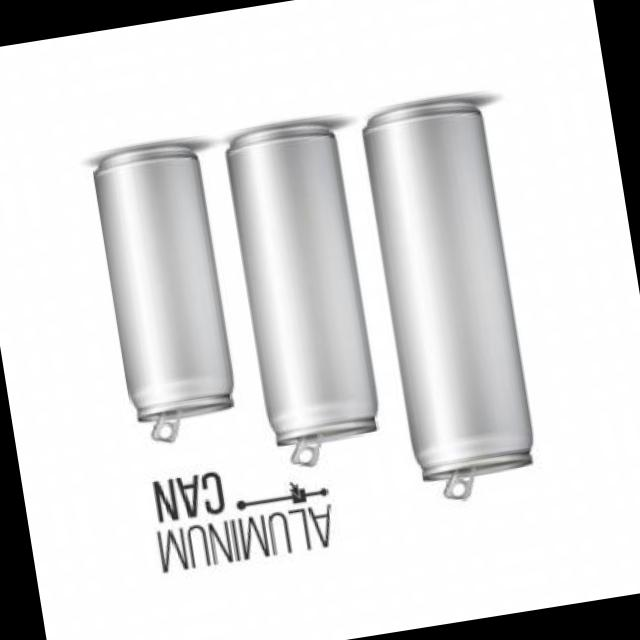Kaleng: (359, 94, 545, 510), (222, 119, 390, 474), (90, 140, 244, 450)
